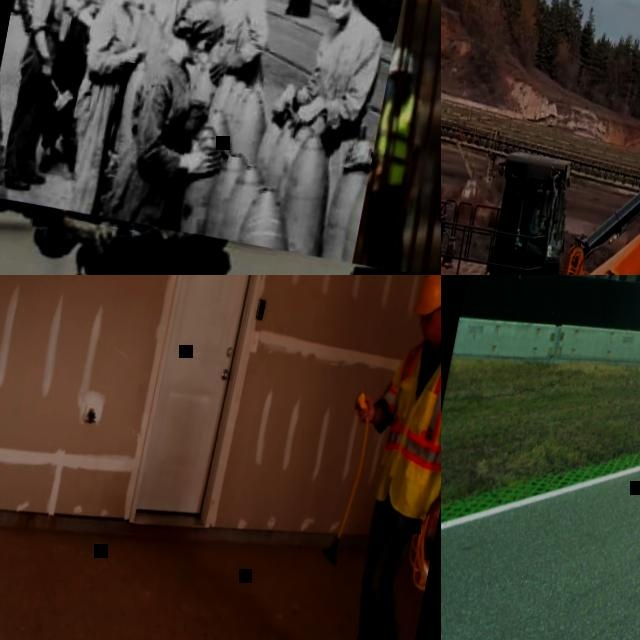Hardhat: (413, 275, 441, 319), (391, 44, 421, 79)
Mask: (187, 46, 210, 68), (326, 1, 350, 22), (386, 78, 402, 102), (129, 0, 145, 7)
NO-Hardhat: (174, 0, 230, 40), (535, 191, 543, 200)
NO-Mask: (421, 318, 441, 339), (538, 204, 542, 211)
NO-Safety Vest: (126, 52, 200, 172), (309, 13, 368, 99), (92, 0, 140, 82), (209, 0, 260, 49), (25, 0, 68, 28), (59, 0, 100, 18), (528, 206, 542, 232)
Person: (299, 275, 441, 640), (109, 0, 251, 234), (52, 0, 154, 217), (355, 48, 441, 270), (0, 0, 94, 194), (10, 205, 238, 275), (29, 0, 119, 176), (288, 0, 397, 135), (188, 0, 290, 84), (525, 190, 555, 251)
Safety Vest: (365, 325, 441, 490), (371, 94, 425, 187)
machinery: (441, 0, 640, 275)
